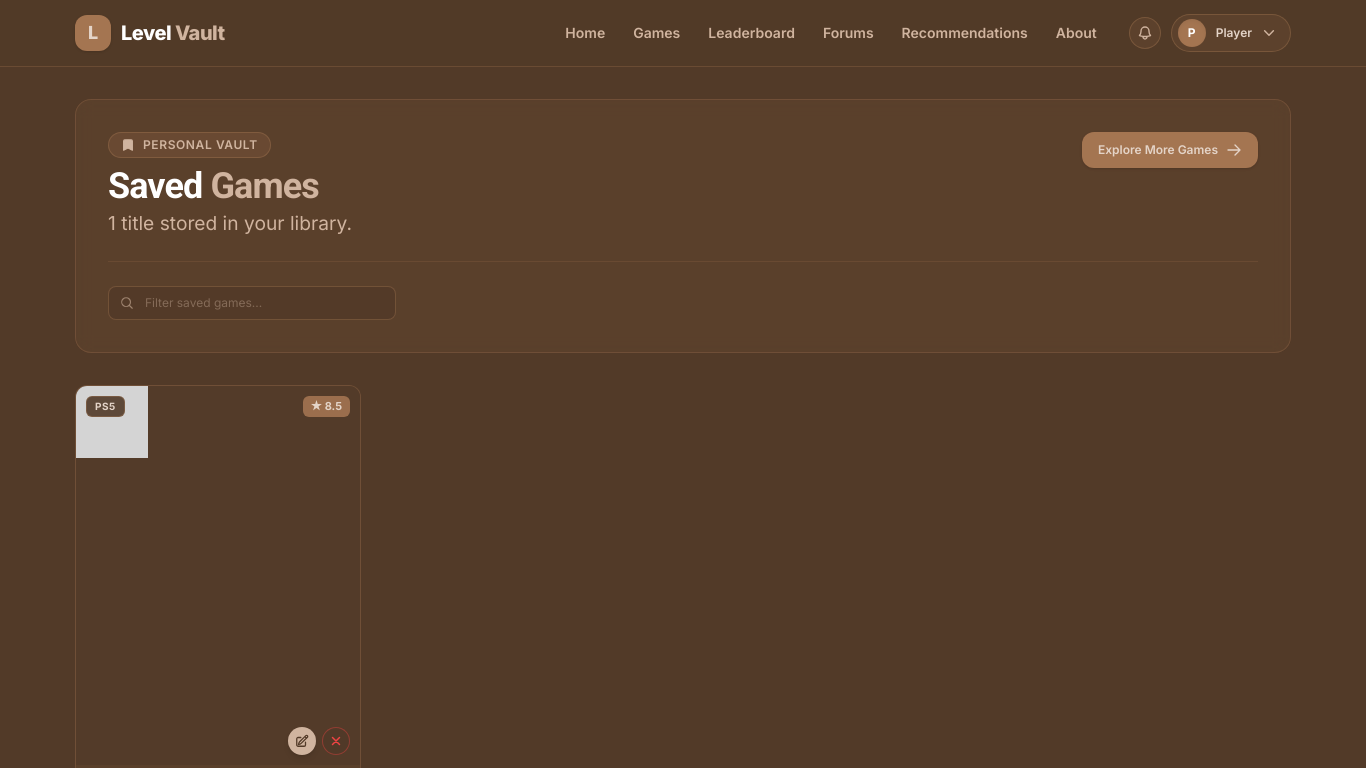
Scenario: FavoritesPage › Review modal › opens pre-filled for a game with an existing review
The image size is (1366, 768).
Click the button titled "Edit your review" at (302,741), box x1=288 y1=727 x2=316 y2=755
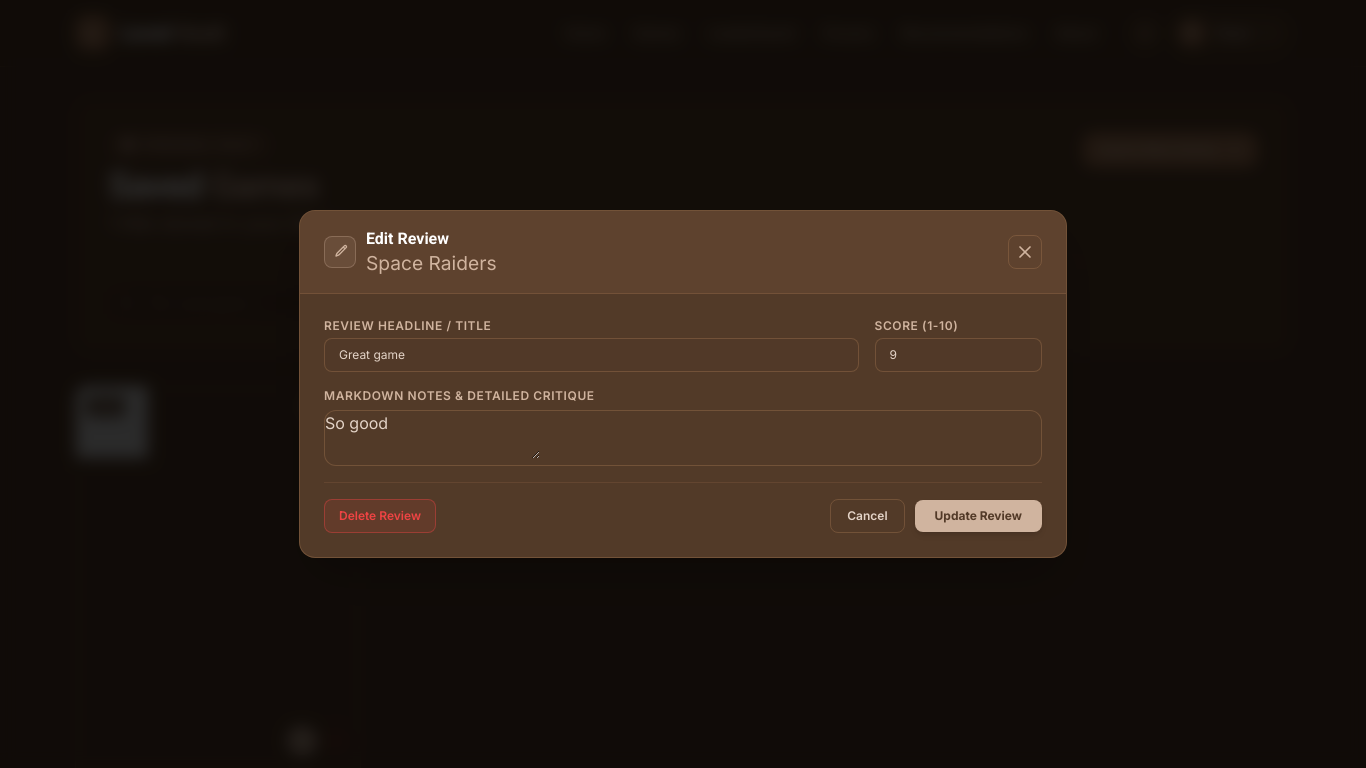
Expected: the heading "Edit Review" is shown, x1=366 y1=229 x2=449 y2=248
Expected: the field showing "Great game" is shown, x1=324 y1=338 x2=858 y2=372
Expected: the number field showing "9" is shown, x1=874 y1=338 x2=1042 y2=372
